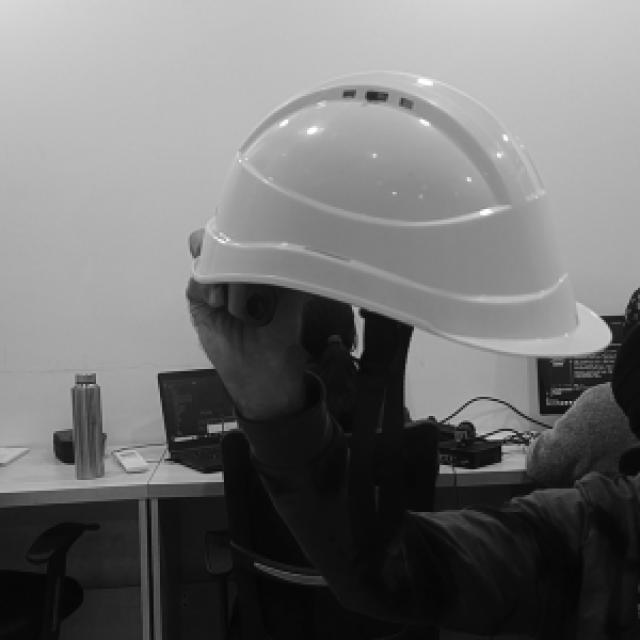safety_helmet: (188, 70, 612, 358)
